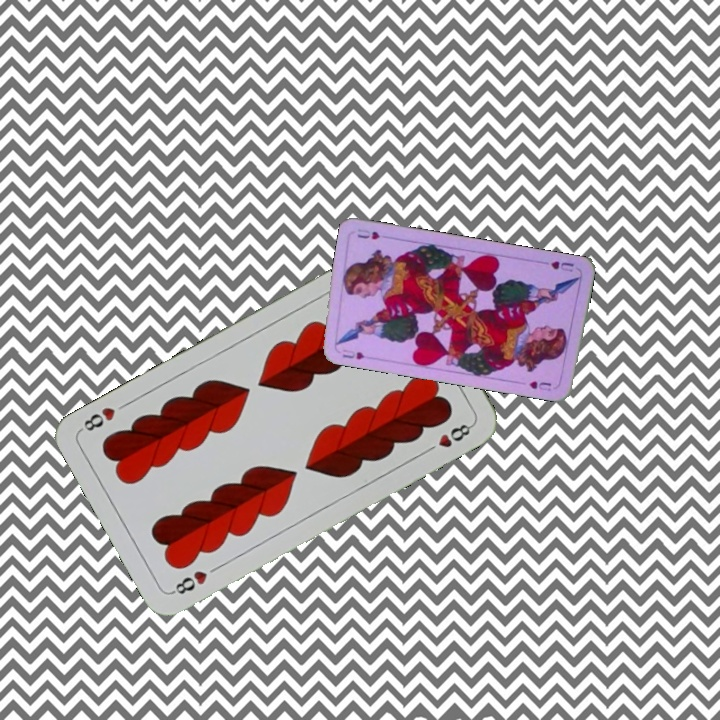H8: (167, 566, 210, 597)
HU: (547, 257, 576, 275), (338, 348, 367, 362)
